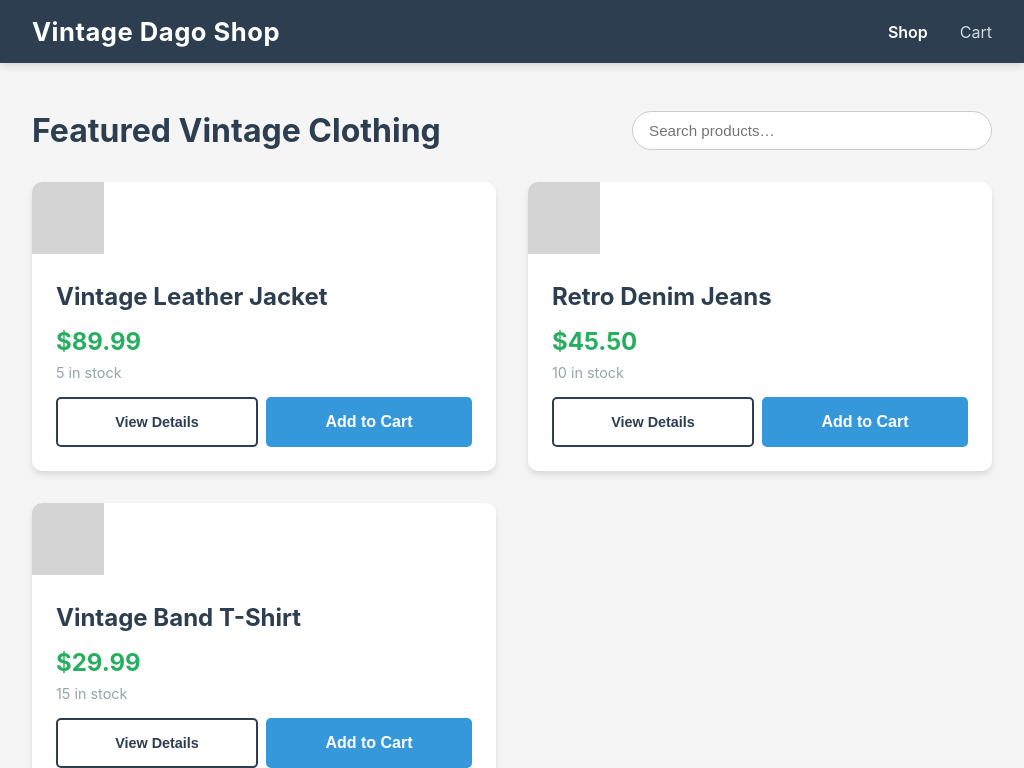
Test case: HomePage › filters products while typing in search
Expected: the heading "Vintage Leather Jacket" is shown, [56,282,328,311]
Expected: the heading "Retro Denim Jeans" is shown, [552,282,772,311]
Step 1. Type "jacket" into the field with test id "search-input" → {"x": 812, "y": 130}, box [632,111,992,150]
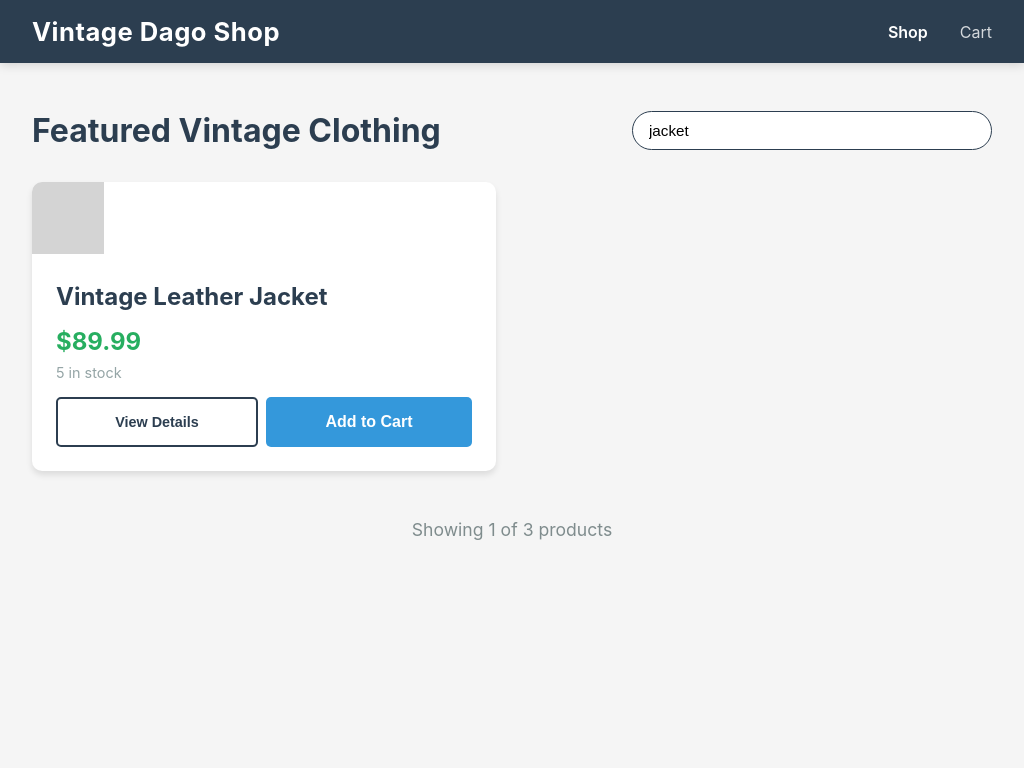
Expected: the heading "Vintage Leather Jacket" is shown, [56,282,328,311]
Expected: the heading "Retro Denim Jeans" is gone
Expected: the heading "Vintage Band T-Shirt" is gone
